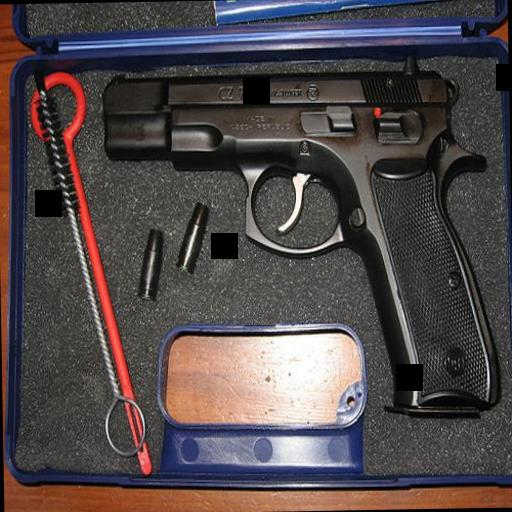Handgun: (99, 64, 501, 420)
